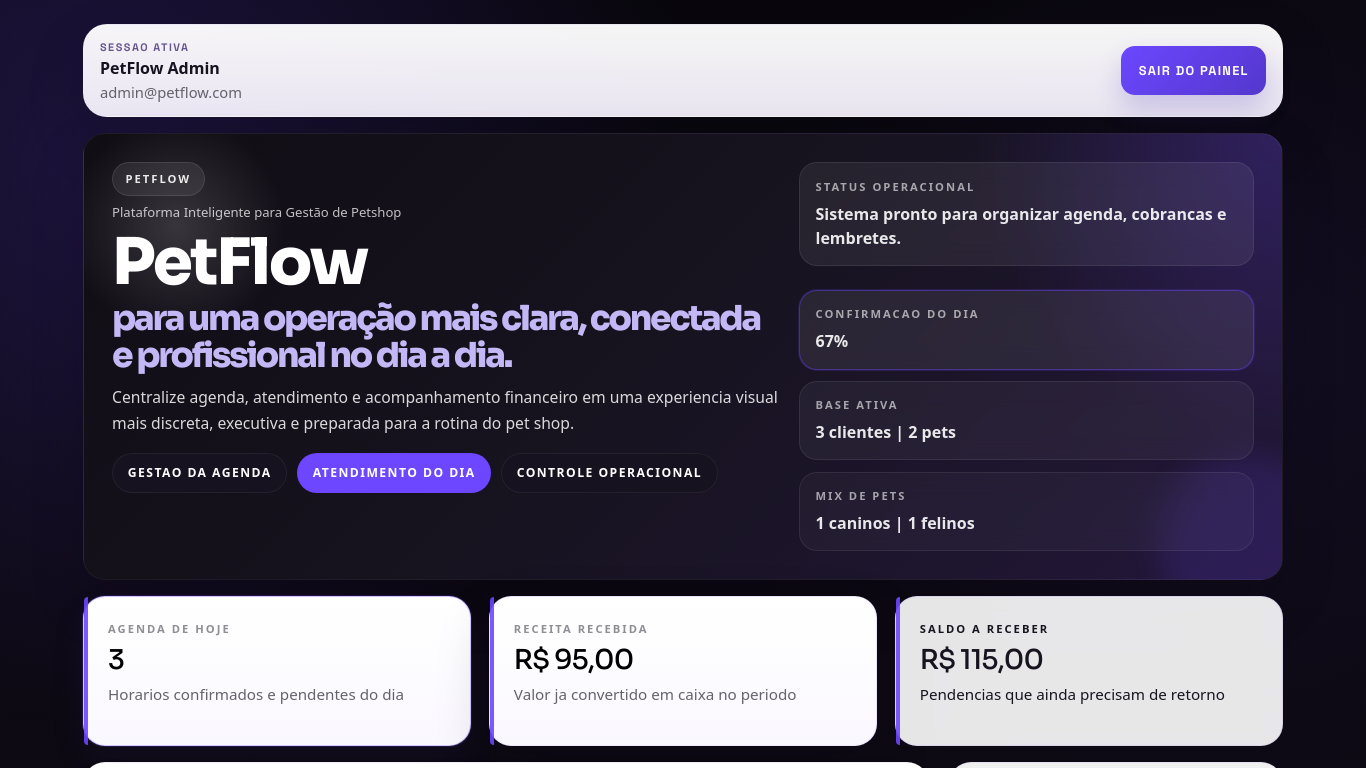
App finance interactions › faz logout e volta para a tela de login
This screenshot has width=1366, height=768.
Click the button "Sair do painel" at [1194, 71], box [1121, 46, 1266, 95]
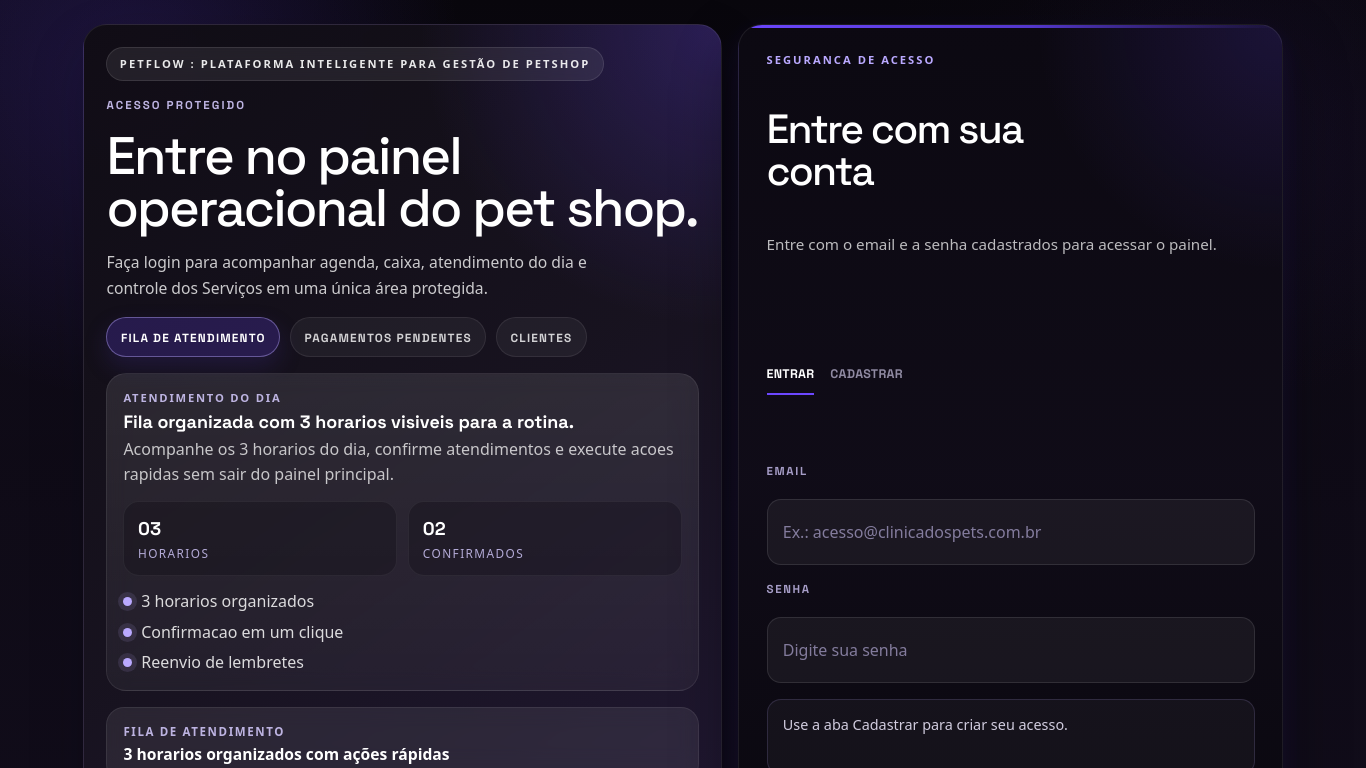
Result: the heading "Entre com sua conta" is shown at [766, 109, 1056, 225]
